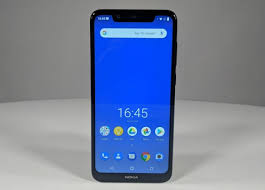nokia: (87, 7, 179, 184)
